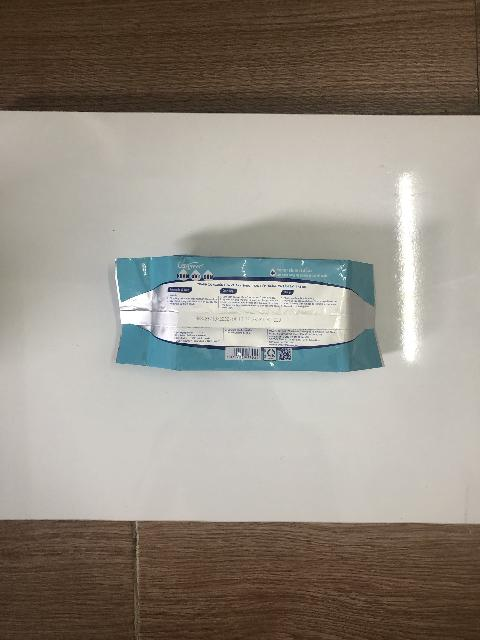Let-green_alcohol_wipes: (113, 255, 384, 375)
